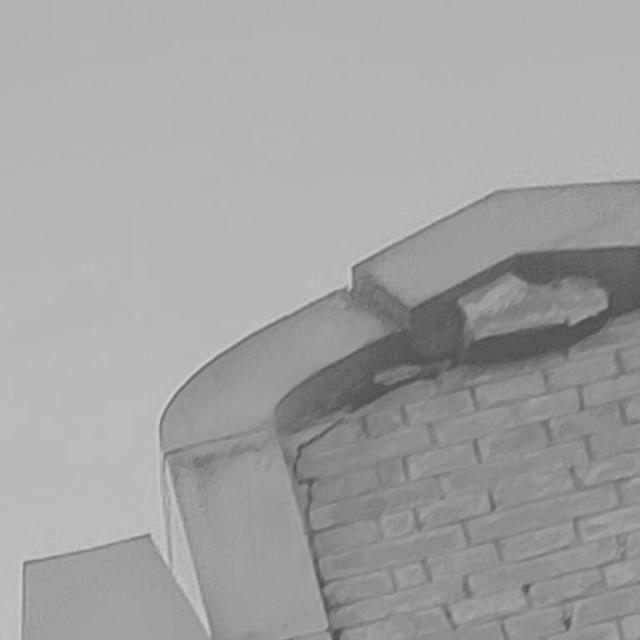crack: (292, 302, 640, 640)
